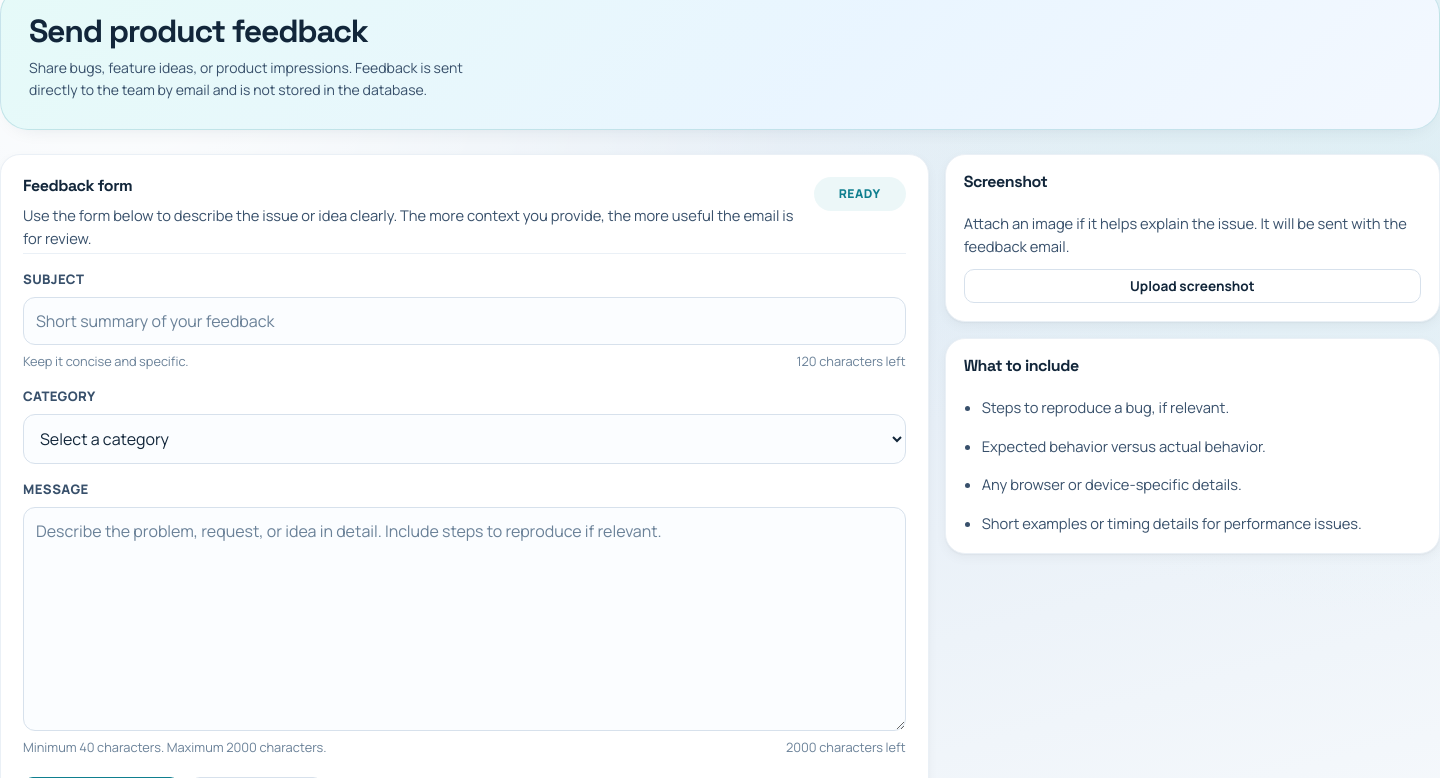
it: FeedbackPage › sends feedback successfully and resets the form
In the field labelled "Subject": x=464, y=321 [23,297,906,345], type "Button overlap on dashboard"
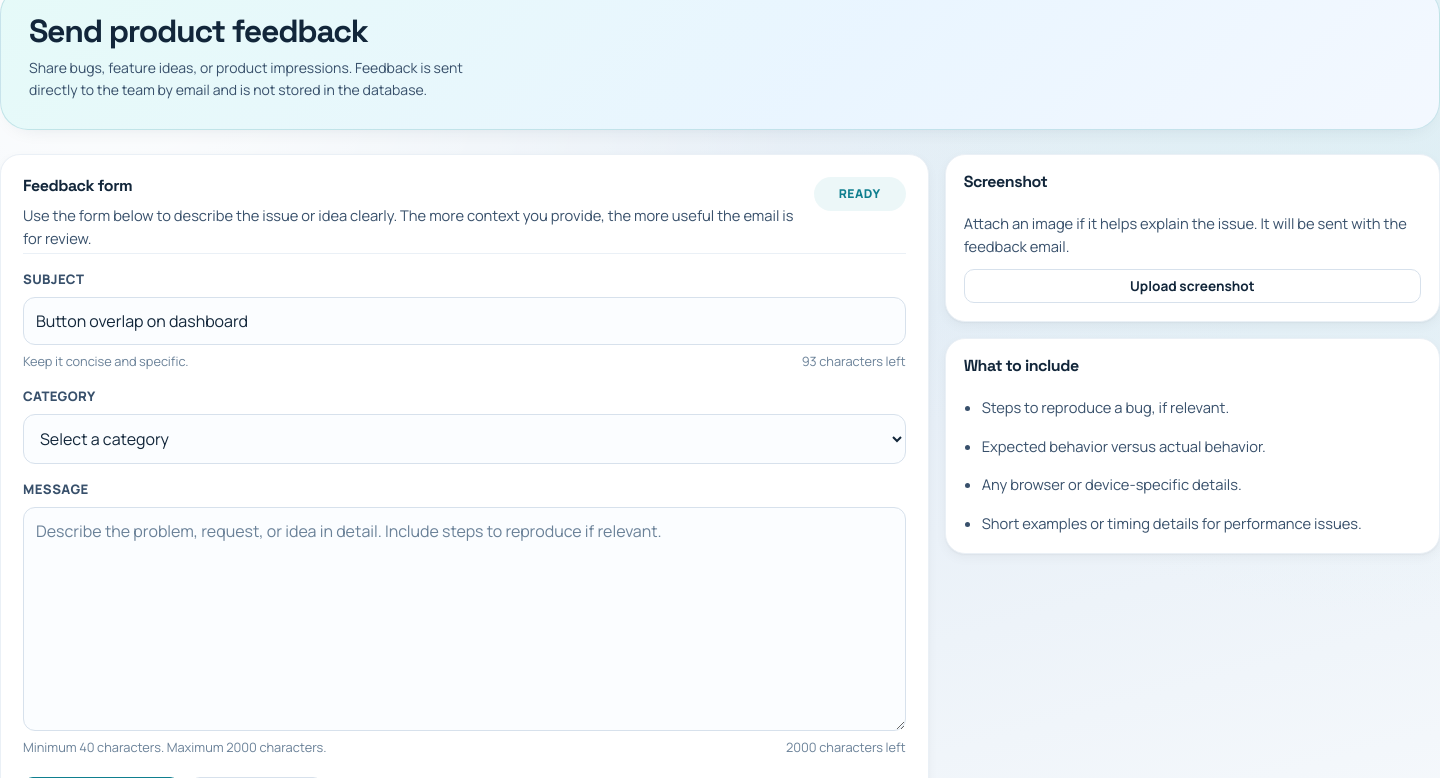
Select "Bug Report" in the dropdown labelled "Category": x=464, y=439 [23,414,906,464]
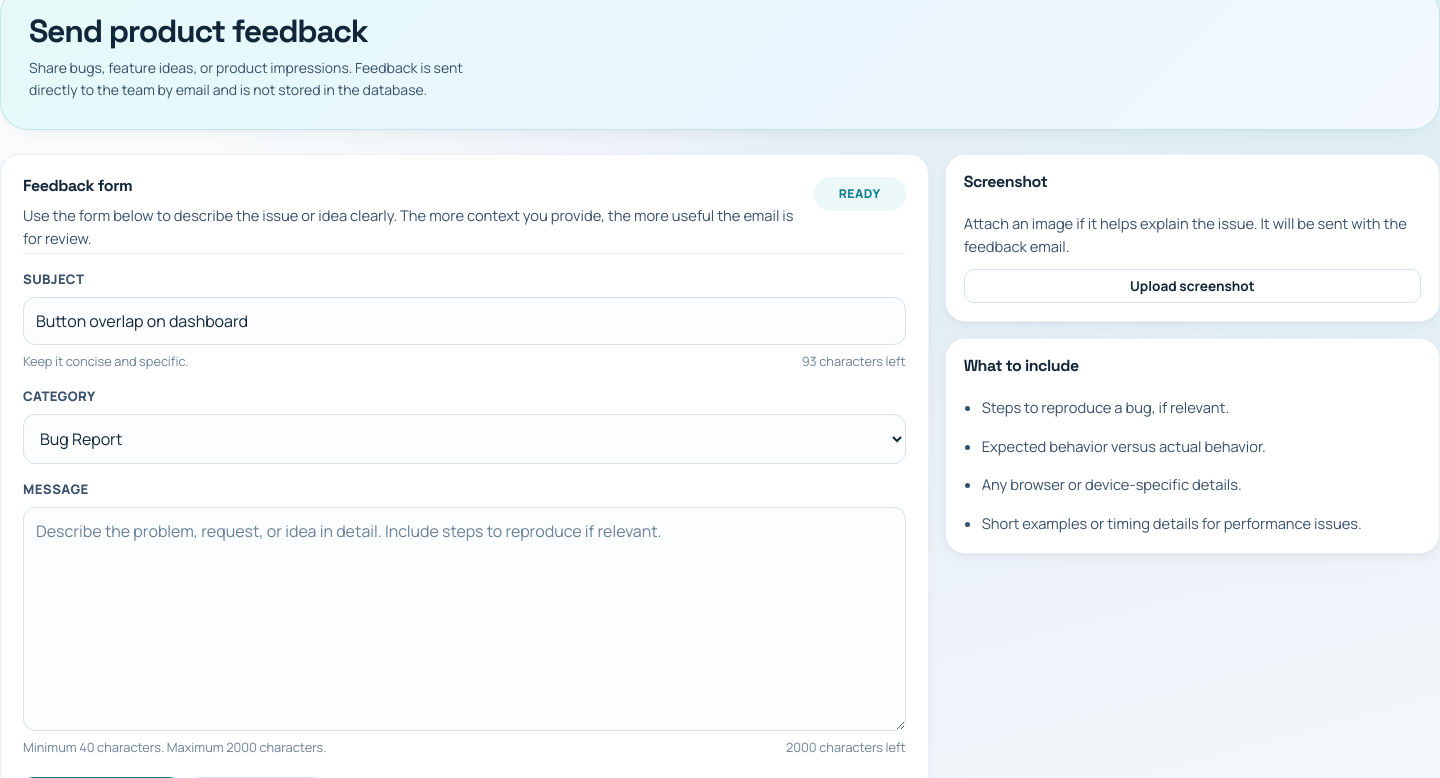
Replace the text in the text box labelled "Message" with "The dashboard header overlaps the primary content on smaller screens and blocks the first card.": x=464, y=619 [23,507,906,731]
(page scrolled)
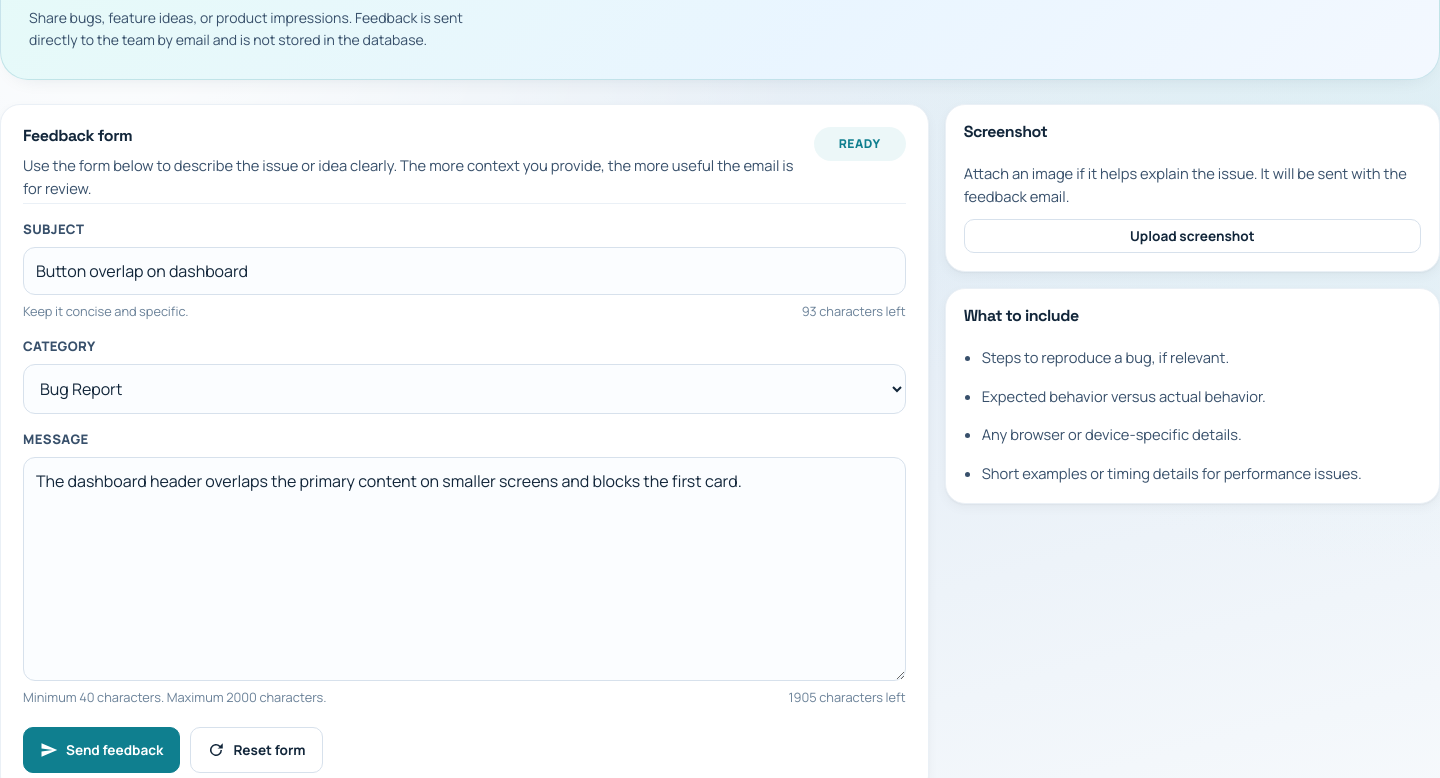
Click the button "Send feedback": x=102, y=750 [23,727,180,773]
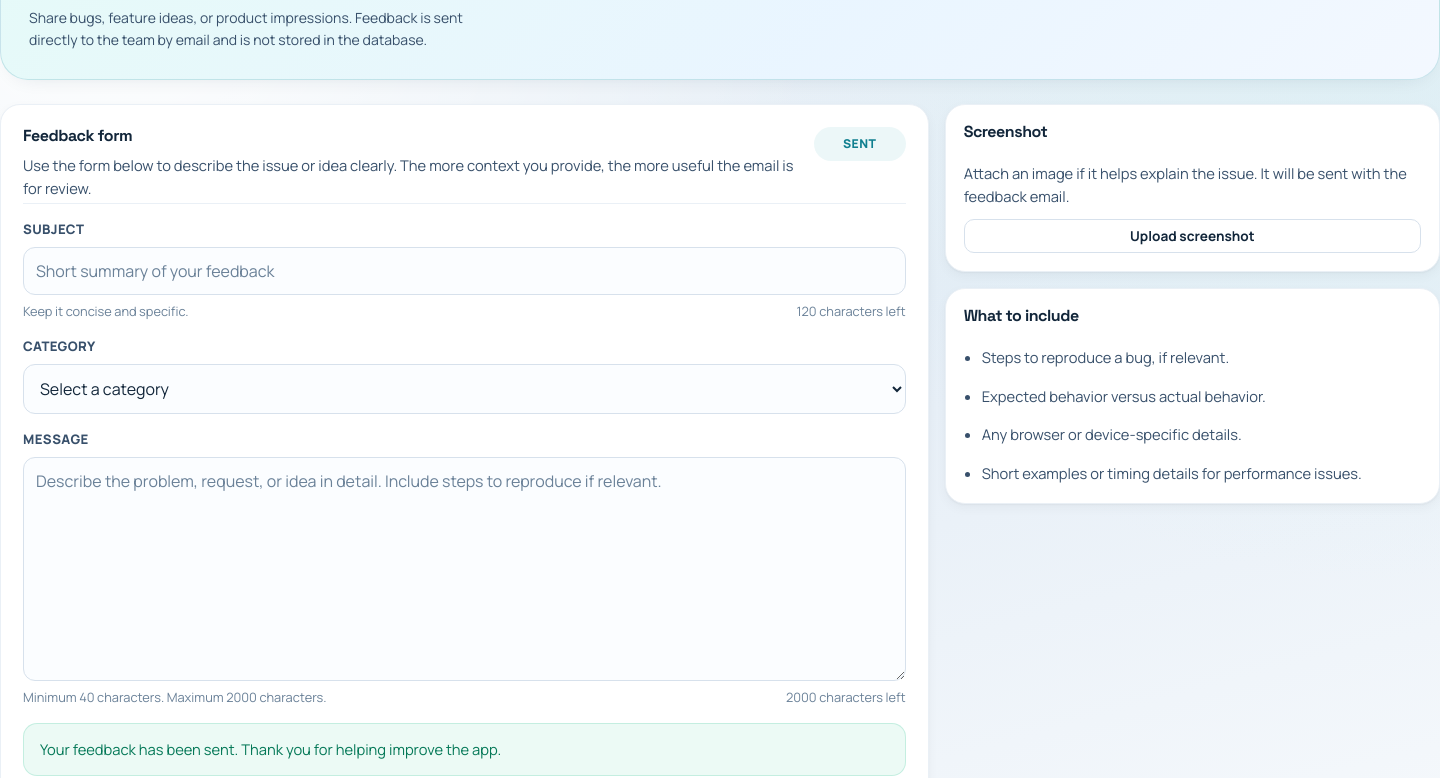
Now the message shows "Your feedback has been sent.", box [40,739,501,759]
Now the field labelled "Subject" is empty, box [23,247,906,295]
Now the text box labelled "Message" is empty, box [23,457,906,681]
